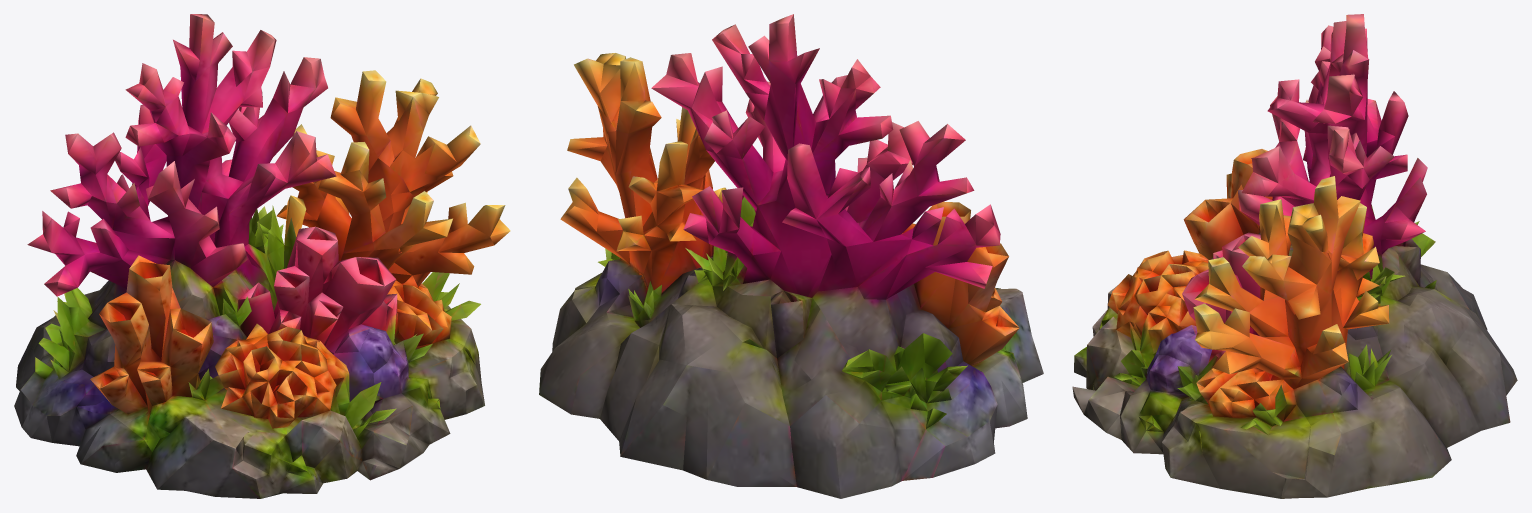
File: coralI.glb
3 renders of one model, left to right at view 1: azimuth 30°, elevation 25°; view 2: azimuth 150°, elevation 25°; view 3: azimuth 270°, elevation 25°, orthographic. The views are drawn at different scales.
Parts seen in each view (by area): view 1: model; view 2: model; view 3: model.
Part boxes in pixels (box(x1,y1,x2,y2)): model: box(14, 14, 510, 498); model: box(539, 14, 1043, 498); model: box(1072, 14, 1517, 498).
Size of the model in its own units: 1.91 by 1.61 by 1.75.
1 material, 1 textured.
